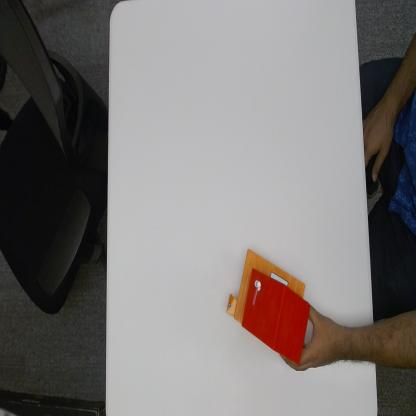Arm: (341, 320, 374, 364)
Hand: (282, 306, 340, 380)
House: (227, 245, 309, 362)
